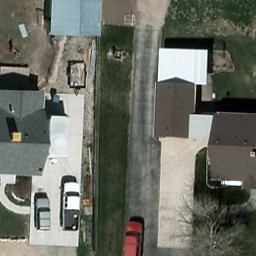car: (32, 197, 49, 231)
pickup: (61, 183, 81, 232)
